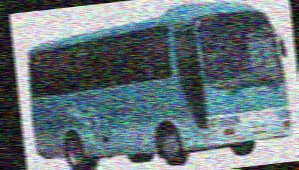bus: (22, 0, 298, 170)
